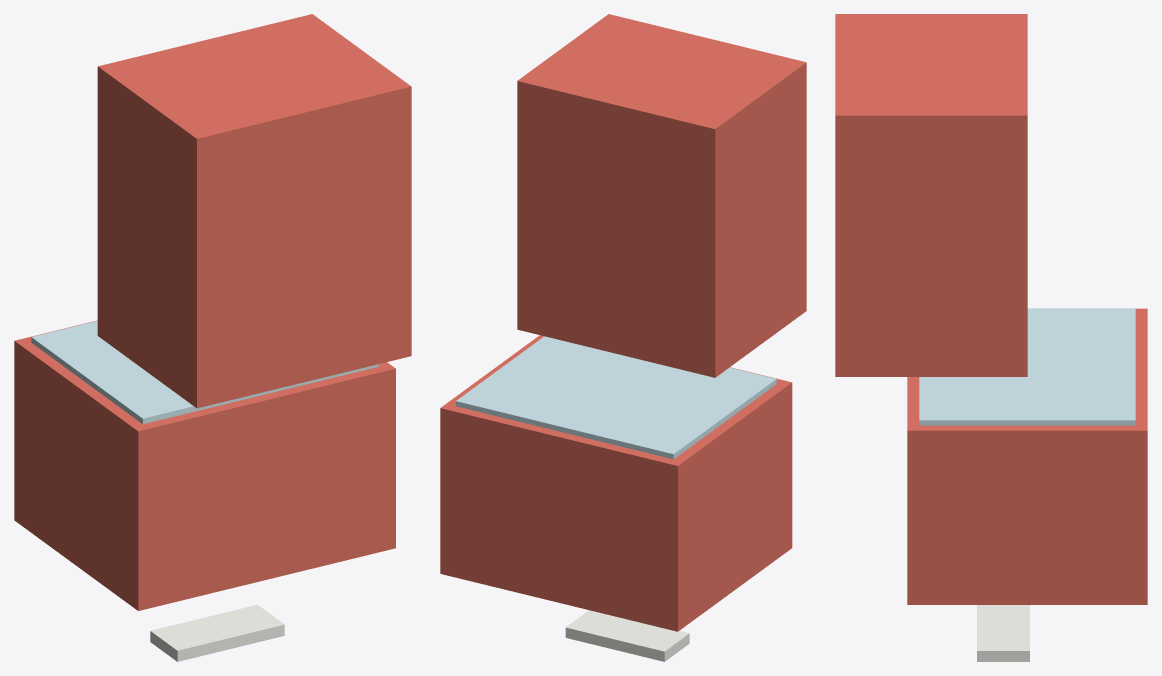
Rendered from tractor.glb.
3 views of the same model, side by side, from view 1: azimuth 30°, elevation 25°; view 2: azimuth 150°, elevation 25°; view 3: azimuth 270°, elevation 25° (orthographic). The views are drawn at different scales.
Parts seen in each view (by area): view 1: Bonnet, Cabin, Win_F, Plate; view 2: Bonnet, Cabin, Win_F, Plate; view 3: Bonnet, Cabin, Win_F, Plate.
Part boxes in pixels (x1,y1,x2,y2): Bonnet: (97, 14, 411, 408); Cabin: (14, 320, 395, 610); Win_F: (31, 321, 378, 423); Plate: (150, 604, 284, 661); Bonnet: (517, 14, 806, 377); Cabin: (440, 335, 792, 631); Win_F: (456, 336, 776, 459); Plate: (565, 610, 689, 661); Bonnet: (835, 14, 1027, 376); Cabin: (907, 308, 1147, 604); Win_F: (919, 308, 1135, 425); Plate: (977, 605, 1029, 661).
Size of the model in its own units: 1.2 by 2.63 by 1.3.
